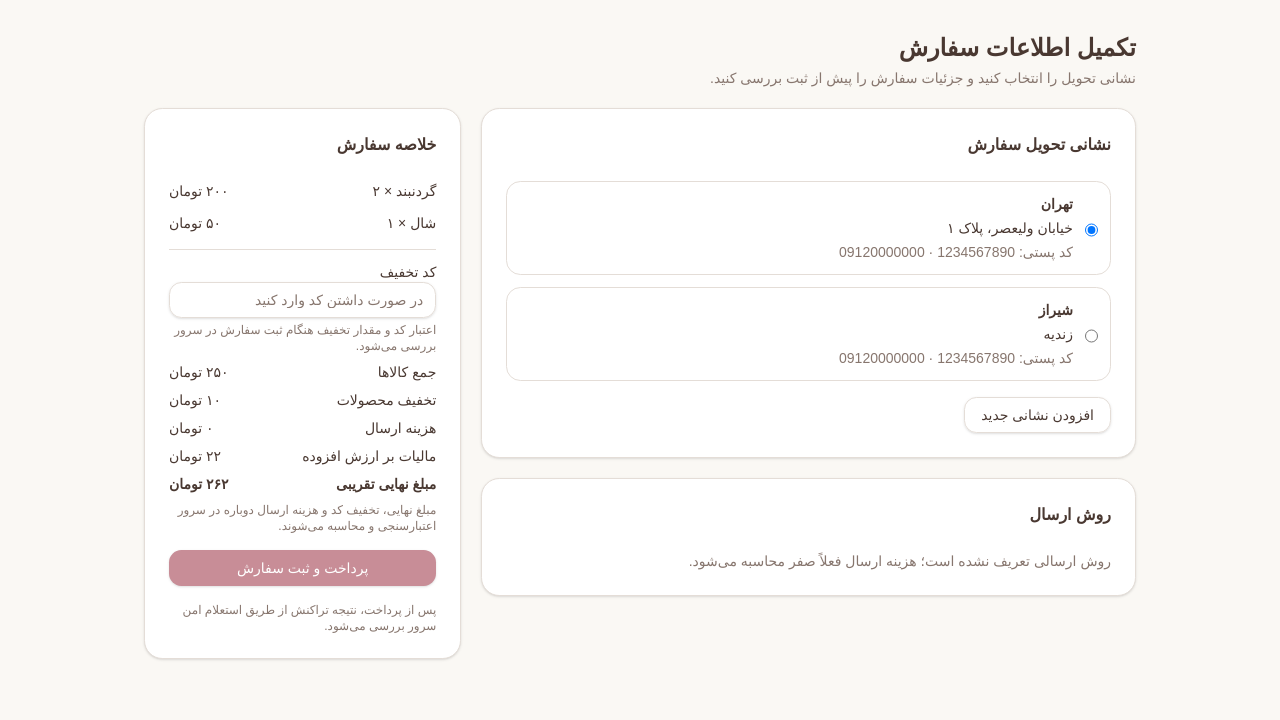
Test: checkout — switching the selected address › lets the shopper pick a different stored address
expect the 1st radio button is checked: met, box [1085,198,1098,262]
Step 1. Click the radio button labelled "شیراز زندیه کد پستی: 1234567890 · 09120000000" → (1092, 336), box [1085,304,1098,368]
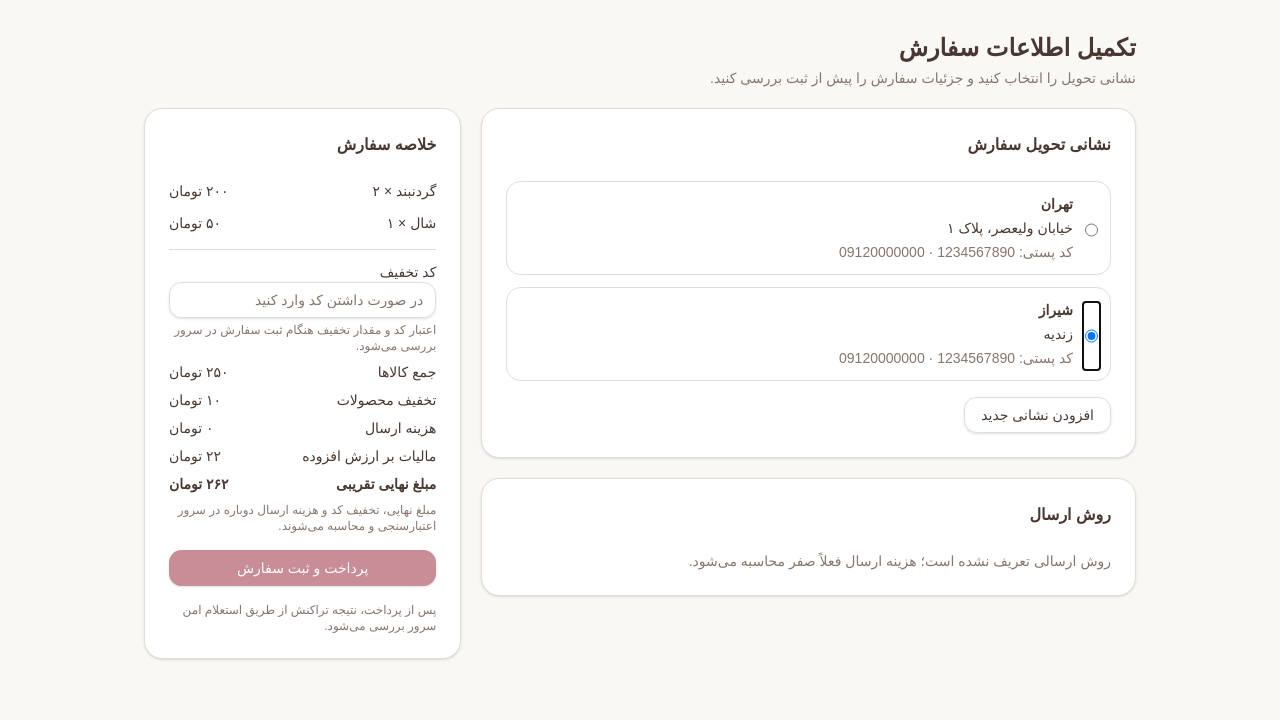
expect the radio button labelled "شیراز زندیه کد پستی: 1234567890 · 09120000000" is checked: met, box [1085,304,1098,368]
expect the 1st radio button is not checked: met, box [1085,198,1098,262]
